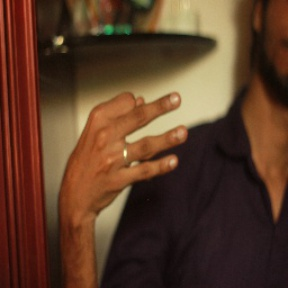K: (53, 91, 193, 206)
